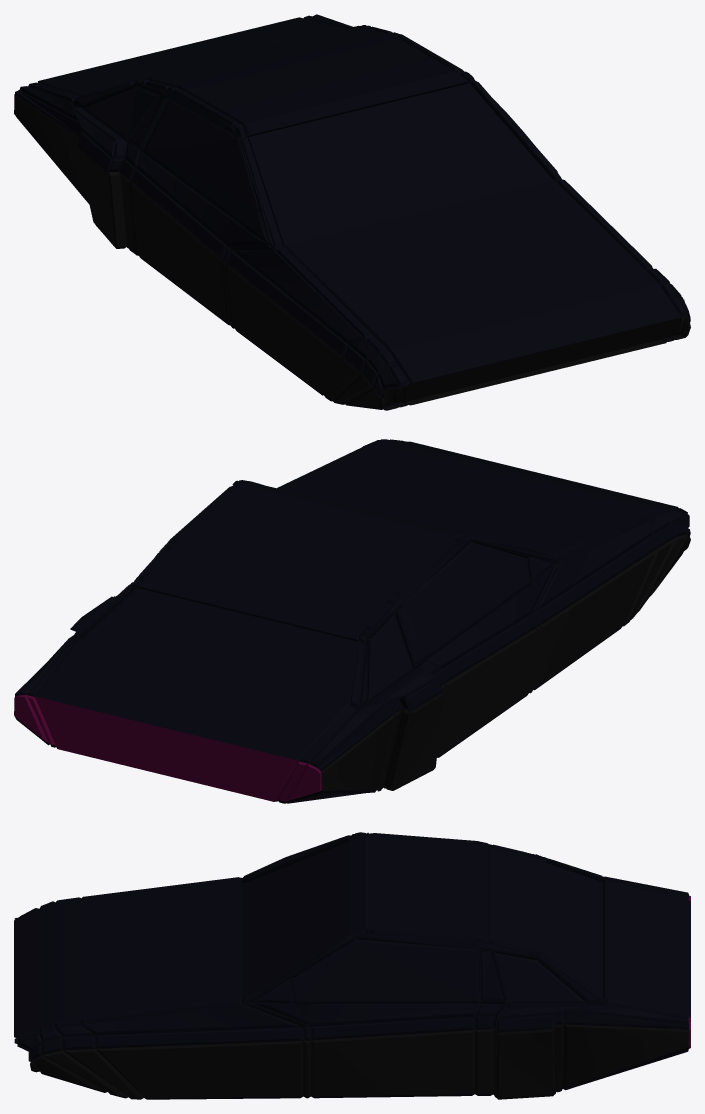
File: car.FBX
3 views of the same model, one above another, from view 1: azimuth 30°, elevation 25°; view 2: azimuth 150°, elevation 25°; view 3: azimuth 270°, elevation 25° (orthographic). The views are drawn at different scales.
Parts seen in each view (by area): view 1: Box001; view 2: Box001; view 3: Box001.
Boxes of the visible parts, left/top/right/bottom form: Box001: left=14, top=14, right=690, bottom=410; Box001: left=14, top=439, right=690, bottom=803; Box001: left=14, top=832, right=690, bottom=1099.
Bounding box in the file's own units: 63.06 × 30.82 × 123.
